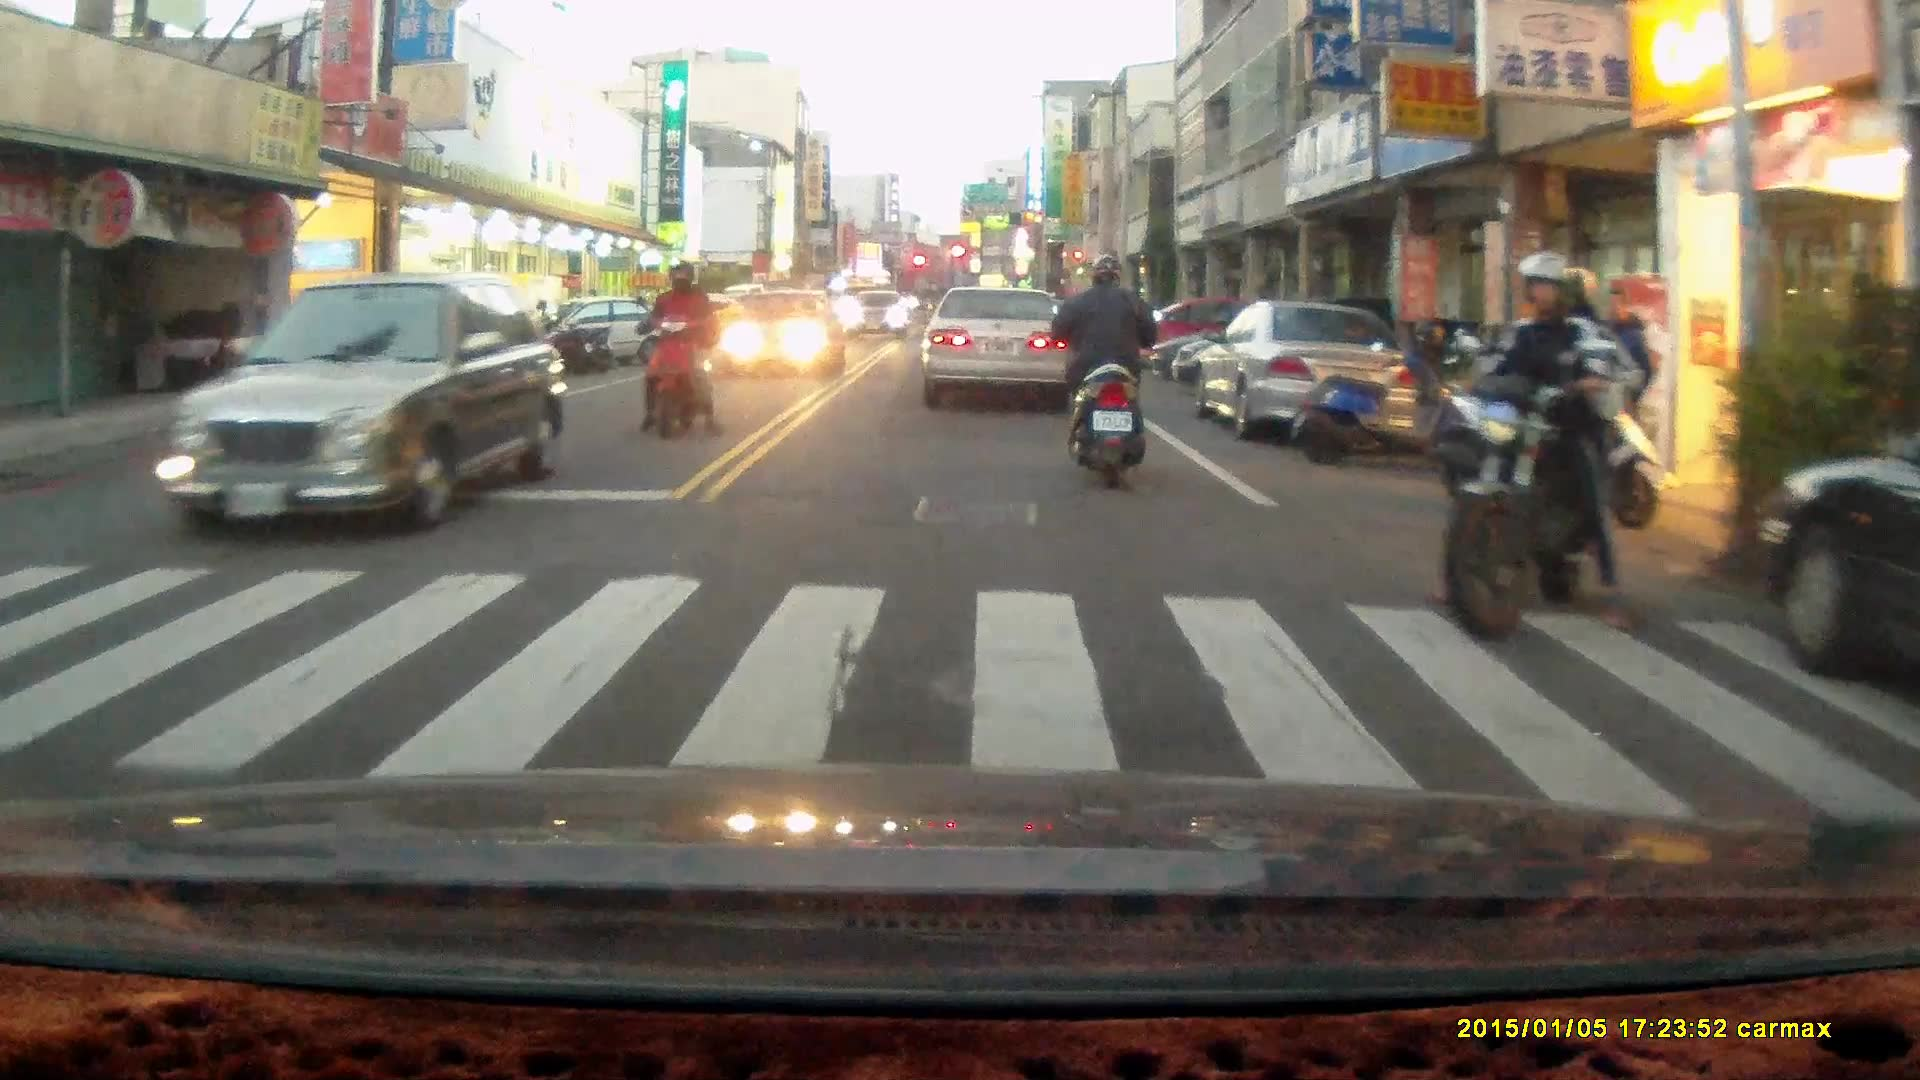pedestrian: (1593, 283, 1655, 488)
rider: (1440, 252, 1644, 634), (1048, 250, 1163, 486), (633, 259, 721, 440)
vehicle: (161, 271, 569, 540), (1745, 416, 1920, 681), (1200, 304, 1427, 448), (926, 286, 1081, 388), (713, 285, 841, 378), (841, 289, 917, 346)
